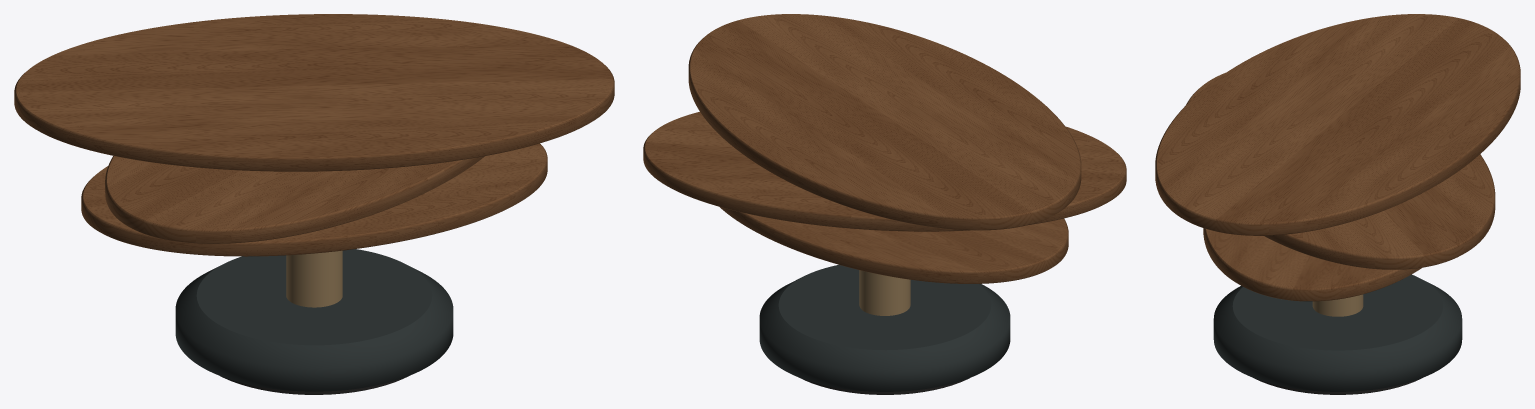
File: rotating-layer-coffee-table.glb
3 views of the same model, side by side, from view 1: azimuth 30°, elevation 25°; view 2: azimuth 150°, elevation 25°; view 3: azimuth 270°, elevation 25° (orthographic). The views are drawn at different scales.
Parts seen in each view (by area): view 1: Rotating walnut layer 3, Weighted oval-stack plinth, Rotating walnut layer 2, Rotating walnut layer 1, Stack central support column, Protective base felt; view 2: Rotating walnut layer 3, Weighted oval-stack plinth, Rotating walnut layer 2, Rotating walnut layer 1, Stack central support column, Protective base felt; view 3: Rotating walnut layer 3, Weighted oval-stack plinth, Rotating walnut layer 2, Rotating walnut layer 1, Stack central support column, Protective base felt.
Boxes of the visible parts, left/top/right/bottom form: Rotating walnut layer 3: left=14, top=14, right=614, bottom=171; Weighted oval-stack plinth: left=175, top=249, right=453, bottom=391; Rotating walnut layer 2: left=105, top=156, right=484, bottom=243; Rotating walnut layer 1: left=81, top=143, right=547, bottom=256; Stack central support column: left=286, top=250, right=342, bottom=307; Protective base felt: left=220, top=376, right=408, bottom=394; Rotating walnut layer 3: left=688, top=14, right=1081, bottom=230; Weighted oval-stack plinth: left=759, top=265, right=1010, bottom=391; Rotating walnut layer 2: left=643, top=111, right=1126, bottom=231; Rotating walnut layer 1: left=720, top=207, right=1068, bottom=283; Stack central support column: left=859, top=270, right=910, bottom=315; Protective base felt: left=800, top=378, right=969, bottom=394; Rotating walnut layer 3: left=1155, top=14, right=1520, bottom=235; Weighted oval-stack plinth: left=1213, top=274, right=1462, bottom=391; Rotating walnut layer 2: left=1186, top=72, right=1495, bottom=269; Rotating walnut layer 1: left=1203, top=228, right=1421, bottom=301; Stack central support column: left=1312, top=294, right=1363, bottom=316; Protective base felt: left=1254, top=378, right=1421, bottom=394.
Size of the model in its own units: 0.8665 by 0.442 by 0.636.
Materials: 5 (2 with a texture image).
